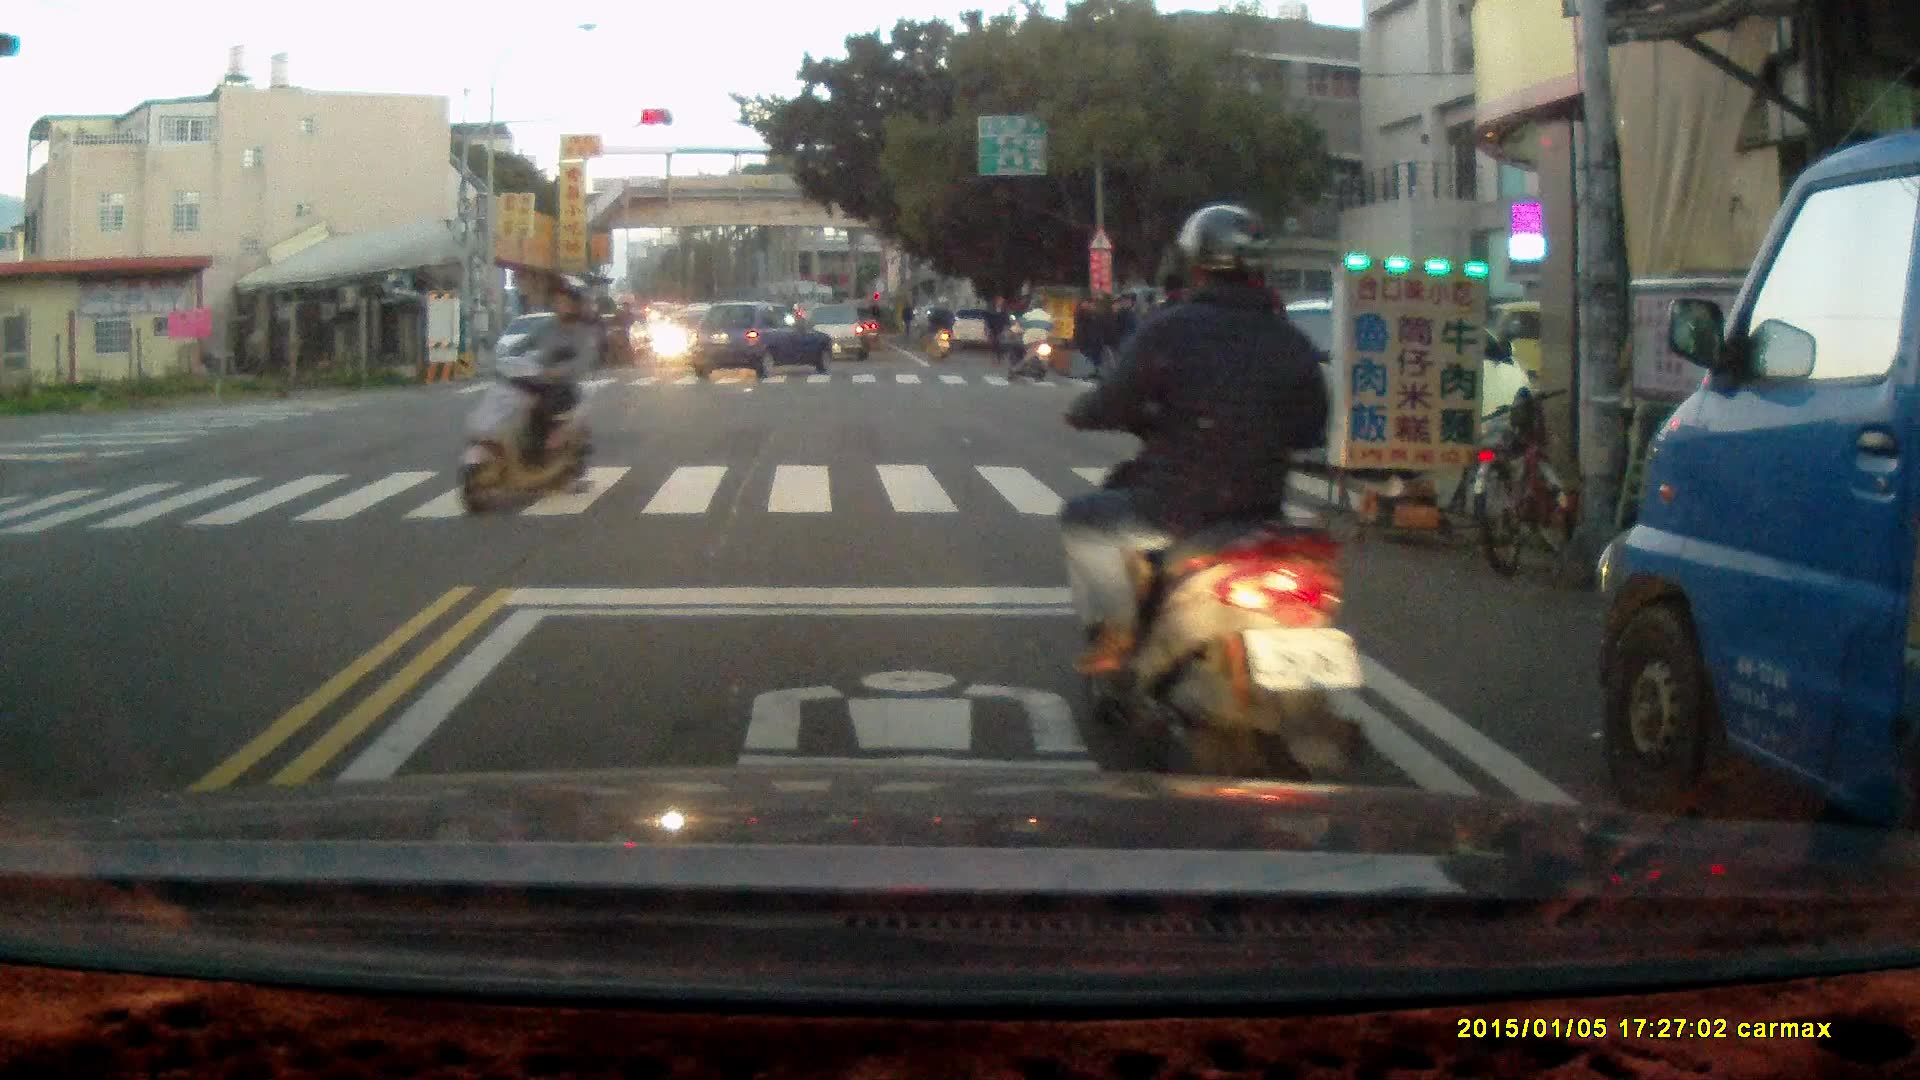pedestrian: (1113, 291, 1144, 372), (1070, 293, 1096, 370), (983, 291, 1007, 366)
rider: (1043, 202, 1377, 834), (455, 277, 597, 515), (1006, 294, 1059, 380), (924, 292, 954, 363), (602, 301, 632, 363)
vehicle: (1598, 132, 1920, 884), (1233, 296, 1533, 459), (686, 302, 833, 383), (498, 313, 586, 377), (797, 302, 875, 367)
